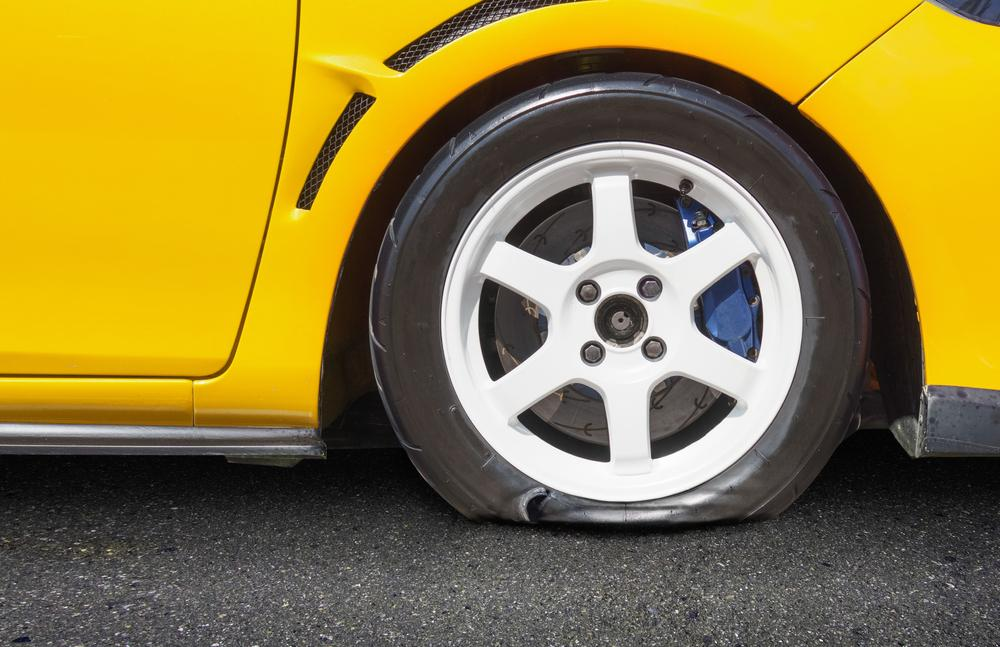tire flat: (371, 70, 875, 525)
